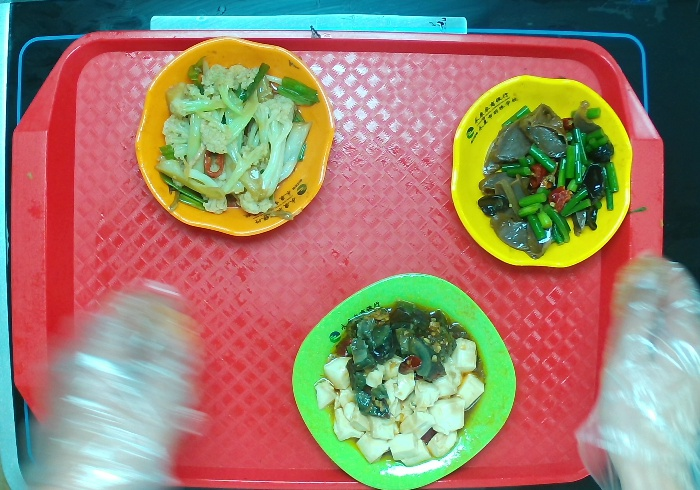YKMZ-Huang_Se_Ao_Bian_Wan: (449, 73, 634, 269)
YKMZ-Ju_Se_Ao_Bian_Wan: (134, 36, 338, 239)
YKMZ-Lv_Se_Fang_Die: (289, 272, 516, 490)
